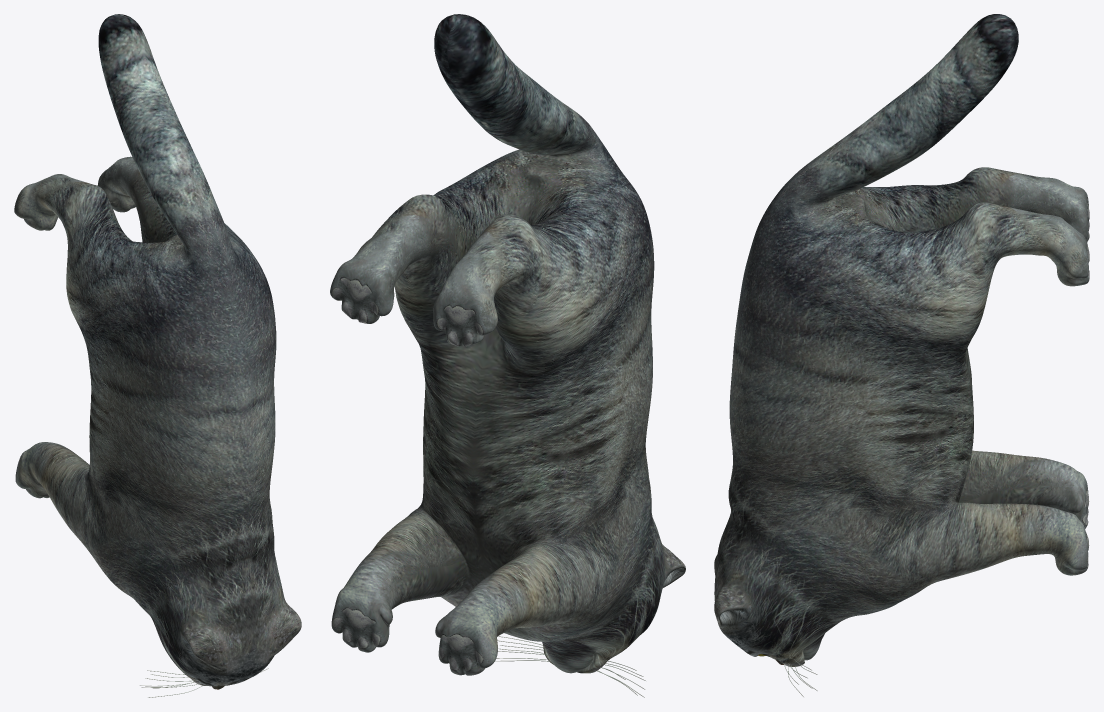
File: 13578_Pallas_Cat_v1_L3.obj
3 views of the same model, side by side, from view 1: azimuth 30°, elevation 25°; view 2: azimuth 150°, elevation 25°; view 3: azimuth 270°, elevation 25° (orthographic). The views are drawn at different scales.
Parts seen in each view (by area): view 1: Pallas_Cat_; view 2: Pallas_Cat_; view 3: Pallas_Cat_.
Part boxes in pixels (bbox=[...]): Pallas_Cat_: bbox=[14, 14, 301, 697]; Pallas_Cat_: bbox=[330, 14, 685, 697]; Pallas_Cat_: bbox=[714, 14, 1089, 696].
Bounding box in the file's own units: 13.78 × 51.62 × 27.05.
Materials: 1 (1 with a texture image).
